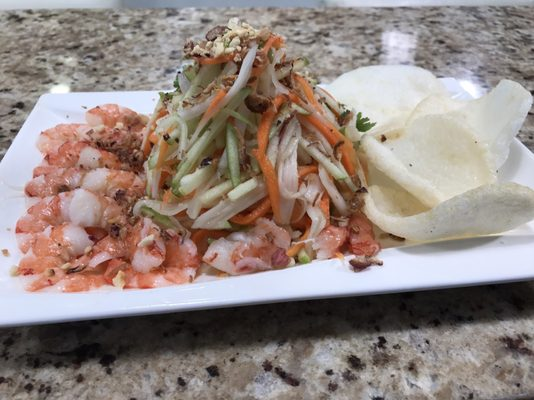sushi: (1, 14, 531, 321)
